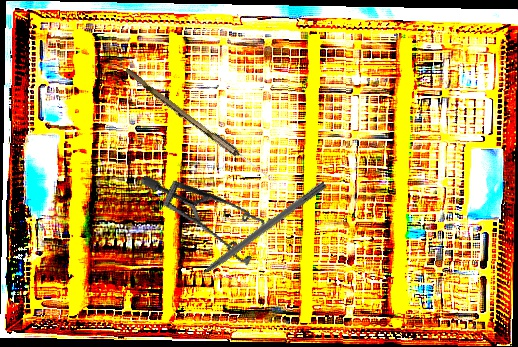Pusher: (179, 179, 328, 291)
Speculum: (138, 133, 286, 293)
Surgical Spoon: (122, 67, 279, 186)
